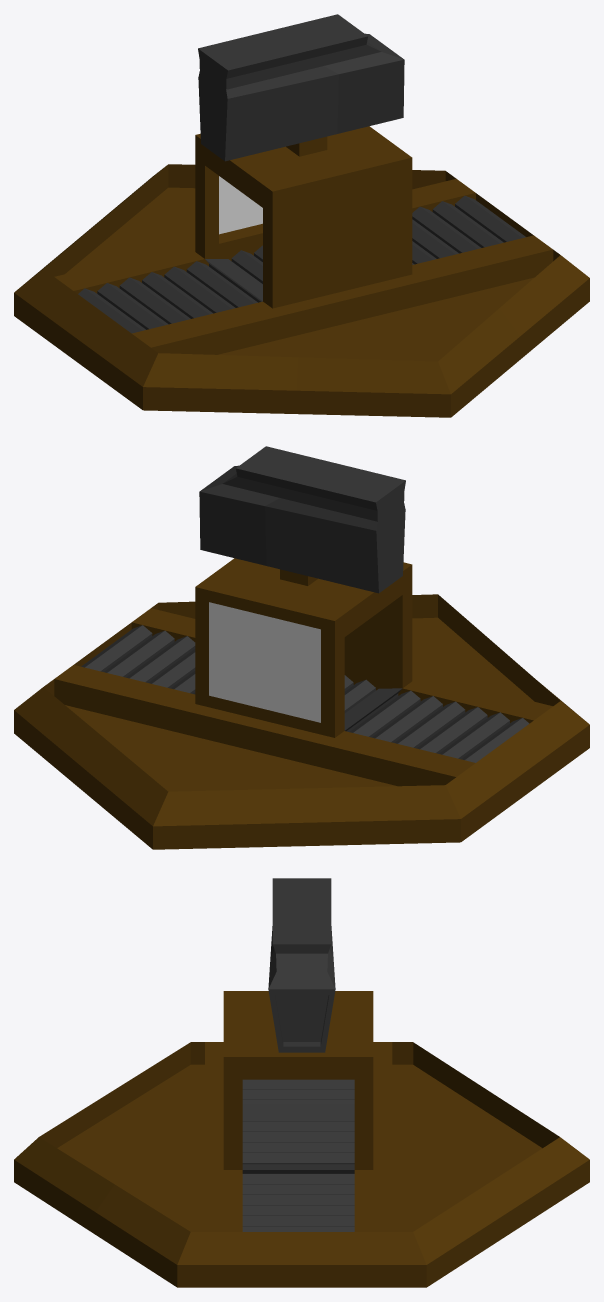
The model's file is tankFactory.fbx.
3 views of the same model, one above another, from view 1: azimuth 30°, elevation 25°; view 2: azimuth 150°, elevation 25°; view 3: azimuth 270°, elevation 25° (orthographic). The views are drawn at different scales.
Parts seen in each view (by area): view 1: Convoyer Belt Tank Factory, Tank Factory Base, Tank; view 2: Convoyer Belt Tank Factory, Tank Factory Base, Tank; view 3: Tank Factory Base, Convoyer Belt Tank Factory, Tank.
Part boxes in pixels (x1,y1,x2,y2): Convoyer Belt Tank Factory: [54, 126, 553, 354]; Tank Factory Base: [14, 164, 589, 417]; Tank: [198, 14, 404, 161]; Convoyer Belt Tank Factory: [54, 558, 552, 786]; Tank Factory Base: [14, 594, 589, 849]; Tank: [199, 446, 405, 593]; Tank Factory Base: [14, 1042, 589, 1287]; Convoyer Belt Tank Factory: [205, 991, 392, 1231]; Tank: [268, 878, 335, 1052].
Bounding box in the file's own units: 200 × 116 × 231.
